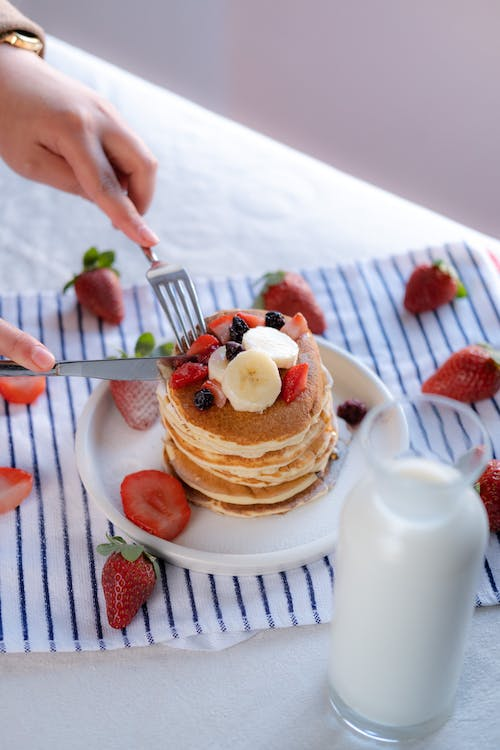knife: (0, 354, 209, 383)
